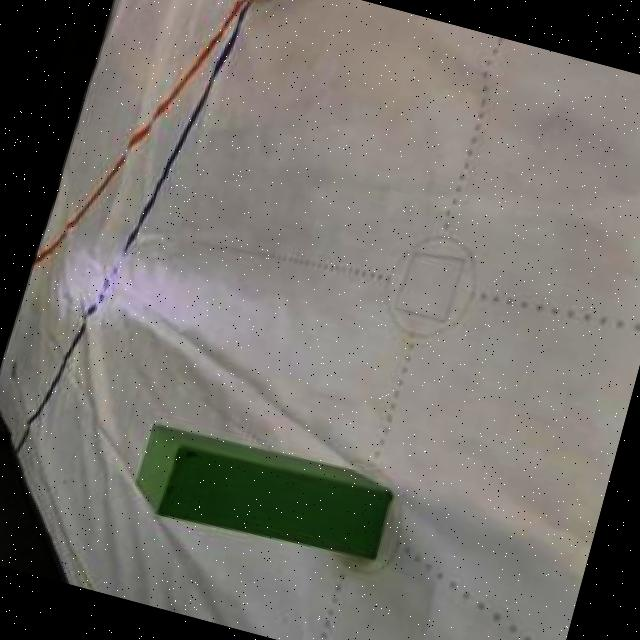greenbox: (124, 416, 398, 574)
